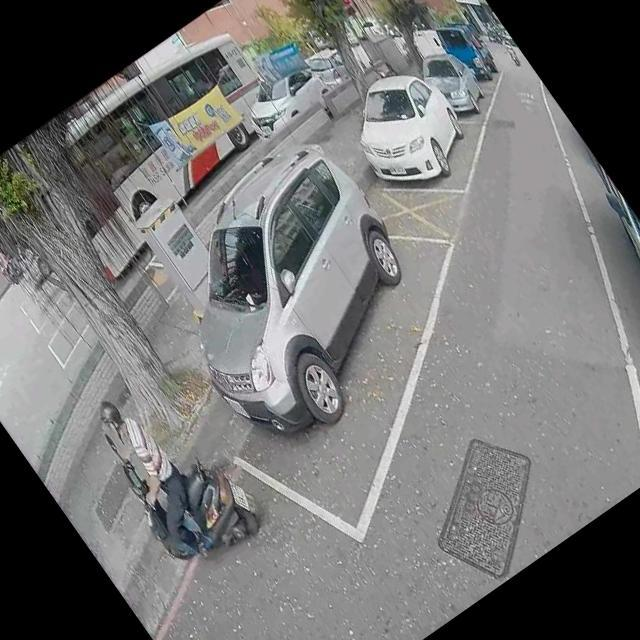person: (77, 381, 232, 570), (0, 244, 21, 282), (494, 28, 512, 49)
